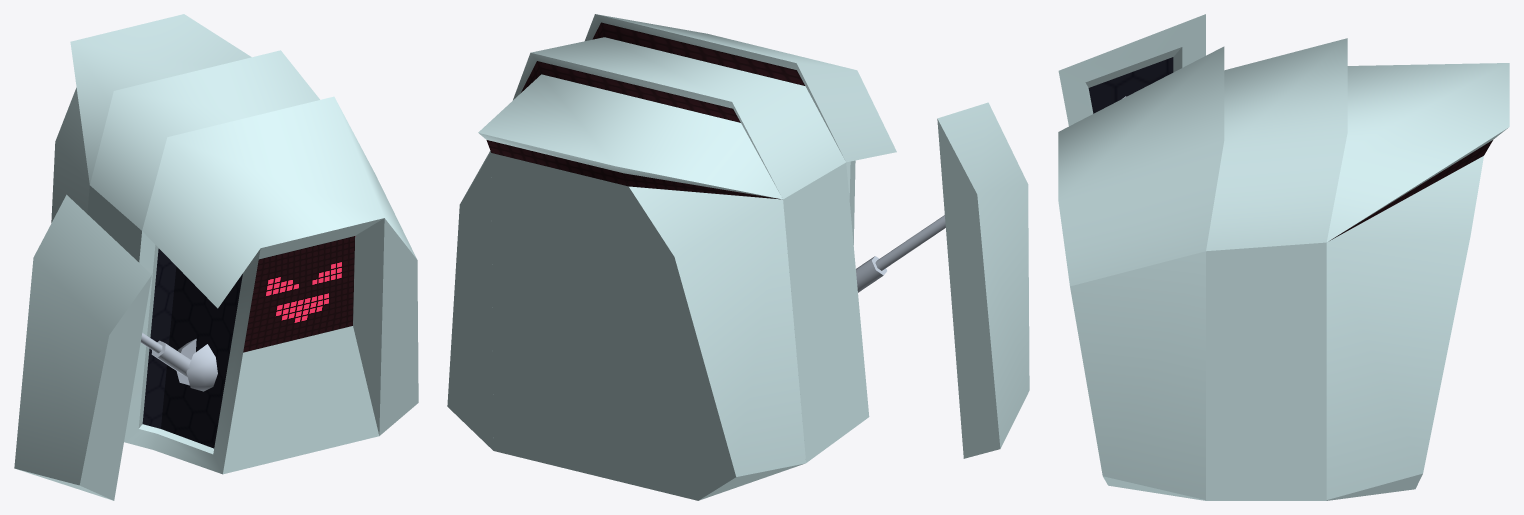
Rendered from sentry.glb.
3 renders of one model, left to right at view 1: azimuth 30°, elevation 25°; view 2: azimuth 150°, elevation 25°; view 3: azimuth 270°, elevation 25°, orthographic. The views are drawn at different scales.
Visible parts, largest first — view 1: Body, Leg_FR, Face_Default, Leg_FL, Leg_RR, Joint_FR, Root; view 2: Body, Leg_RR, Leg_FR, Leg_RL, Extender; view 3: Body, Leg_RL, Leg_FL, Leg_FR.
Boxes of the visible parts, x1=… form: Body: x1=70, y1=14, x2=416, y2=474; Leg_FR: x1=14, y1=194, x2=151, y2=500; Face_Default: x1=243, y1=236, x2=355, y2=352; Leg_FL: x1=379, y1=218, x2=418, y2=435; Leg_RR: x1=51, y1=87, x2=89, y2=222; Joint_FR: x1=176, y1=338, x2=217, y2=391; Root: x1=151, y1=340, x2=190, y2=376; Body: x1=478, y1=14, x2=896, y2=500; Leg_RR: x1=629, y1=186, x2=805, y2=500; Leg_FR: x1=937, y1=102, x2=1029, y2=458; Leg_RL: x1=447, y1=151, x2=493, y2=450; Extender: x1=875, y1=215, x2=945, y2=270; Body: x1=1058, y1=38, x2=1509, y2=500; Leg_RL: x1=1326, y1=156, x2=1483, y2=500; Leg_FL: x1=1070, y1=251, x2=1205, y2=500; Leg_FR: x1=1058, y1=14, x2=1205, y2=126.
Bounding box in the file's own units: 0.7 × 0.5434 × 0.623.
2 materials, 2 textured.
